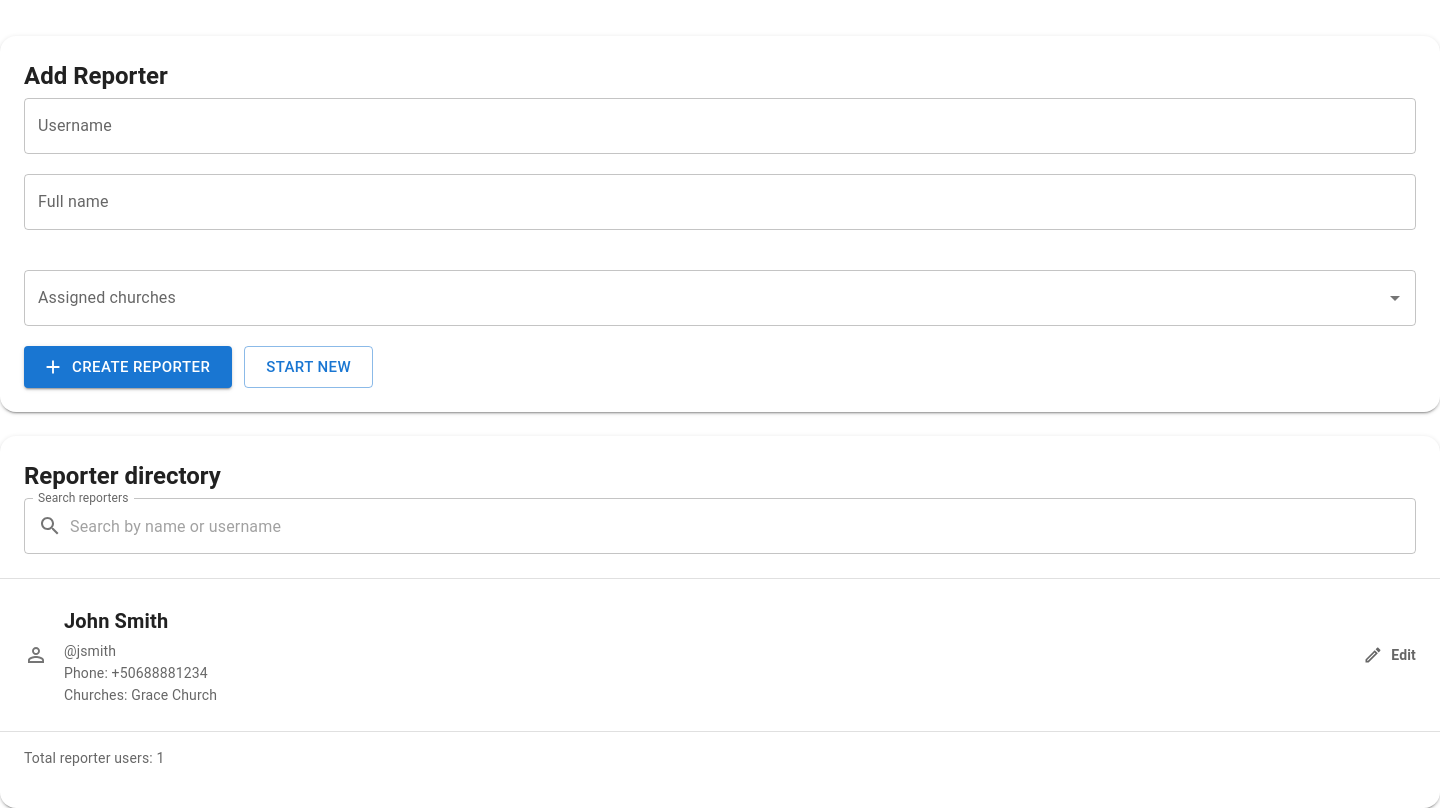
Test: ReporterUserManagementPage › deletes a reporter after selecting them
(page scrolled)
Click the button "John Smith": (720, 655) [0, 579, 1439, 731]
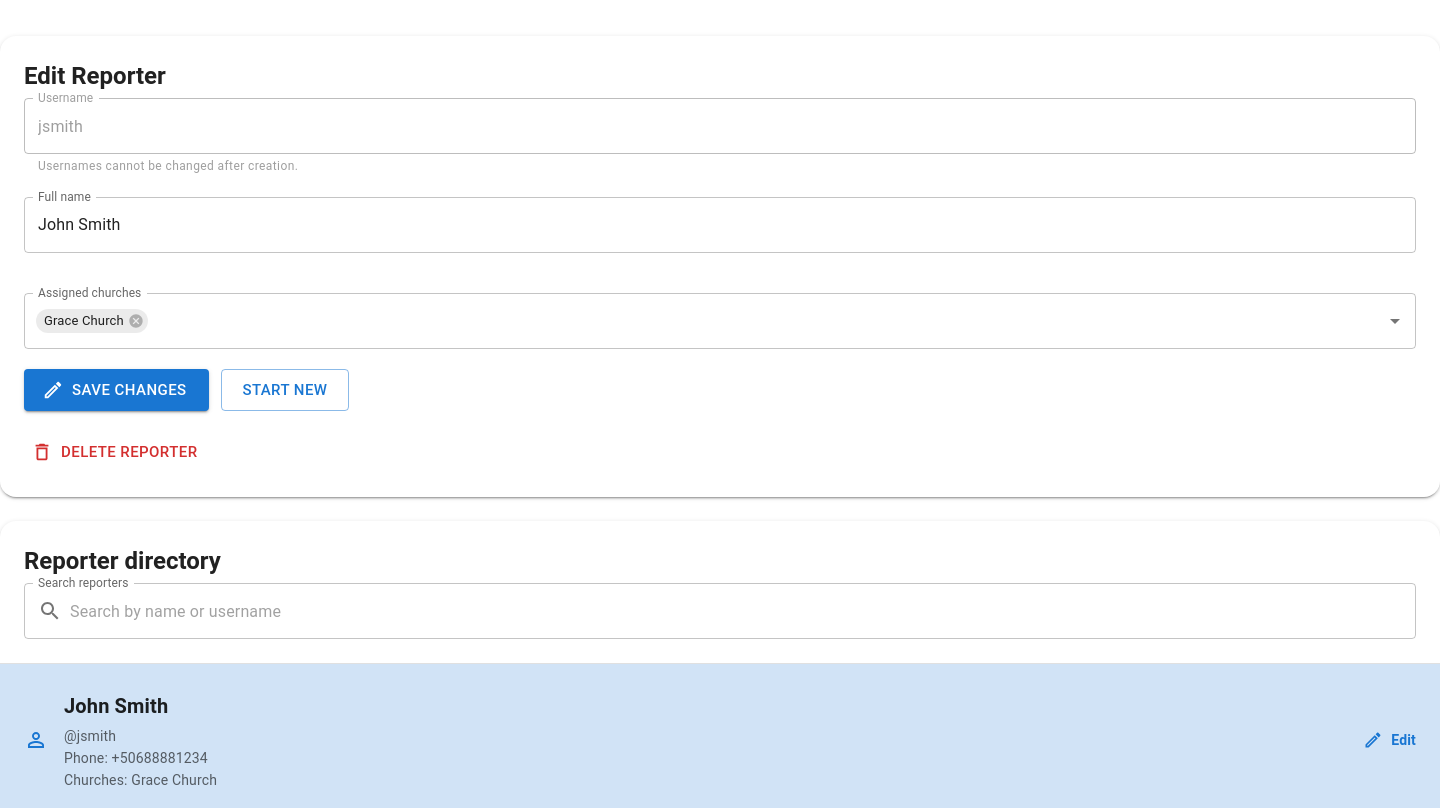
Click the button "Delete Reporter": (116, 452) [24, 431, 209, 474]
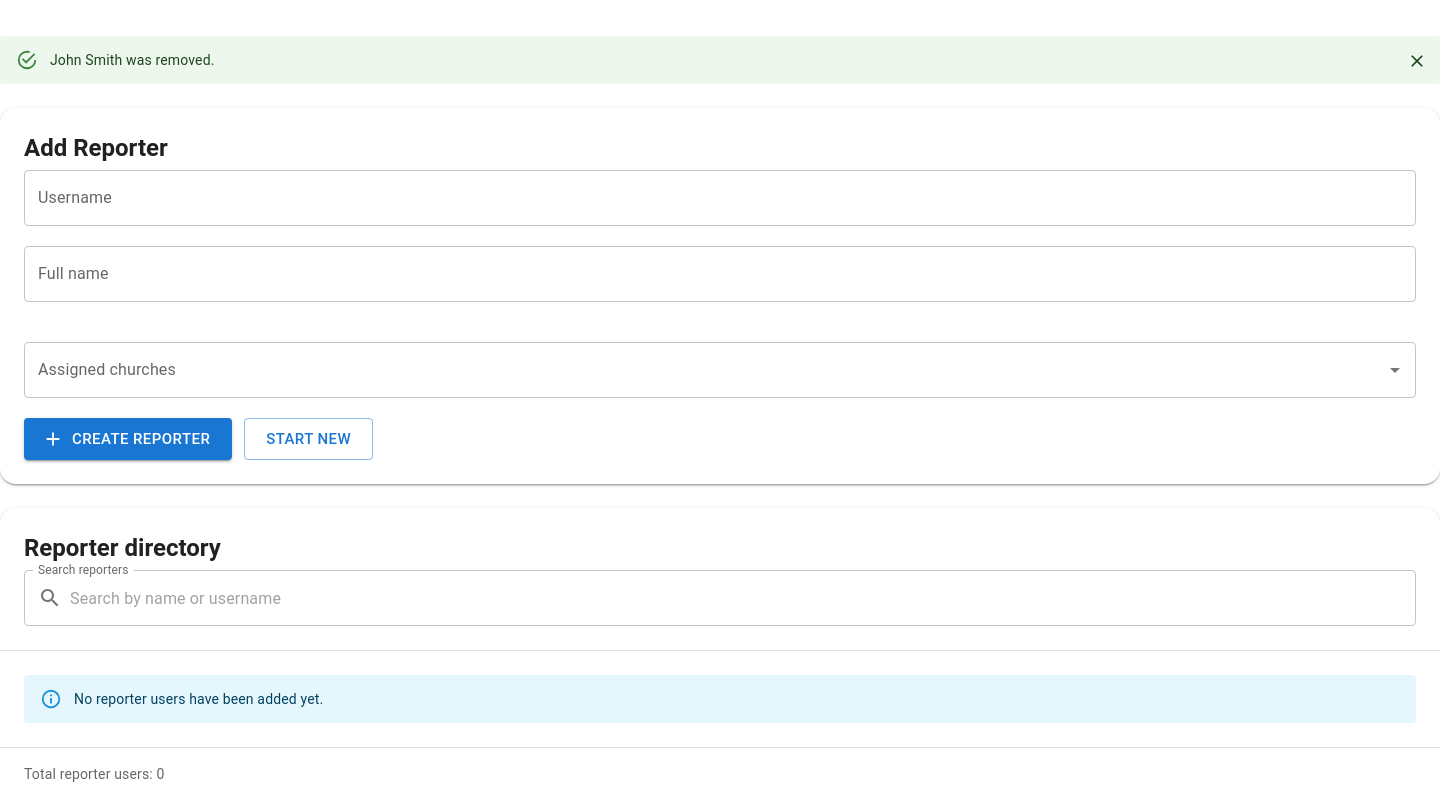
Check: the text "John Smith was removed." is shown, box [50, 52, 215, 68]
Check: the heading "Add Reporter" is shown, box [24, 134, 168, 162]
